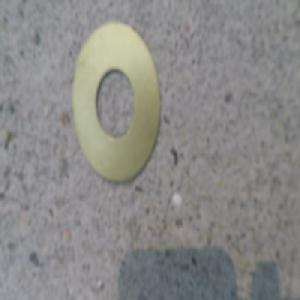Washer: (72, 23, 159, 181)
